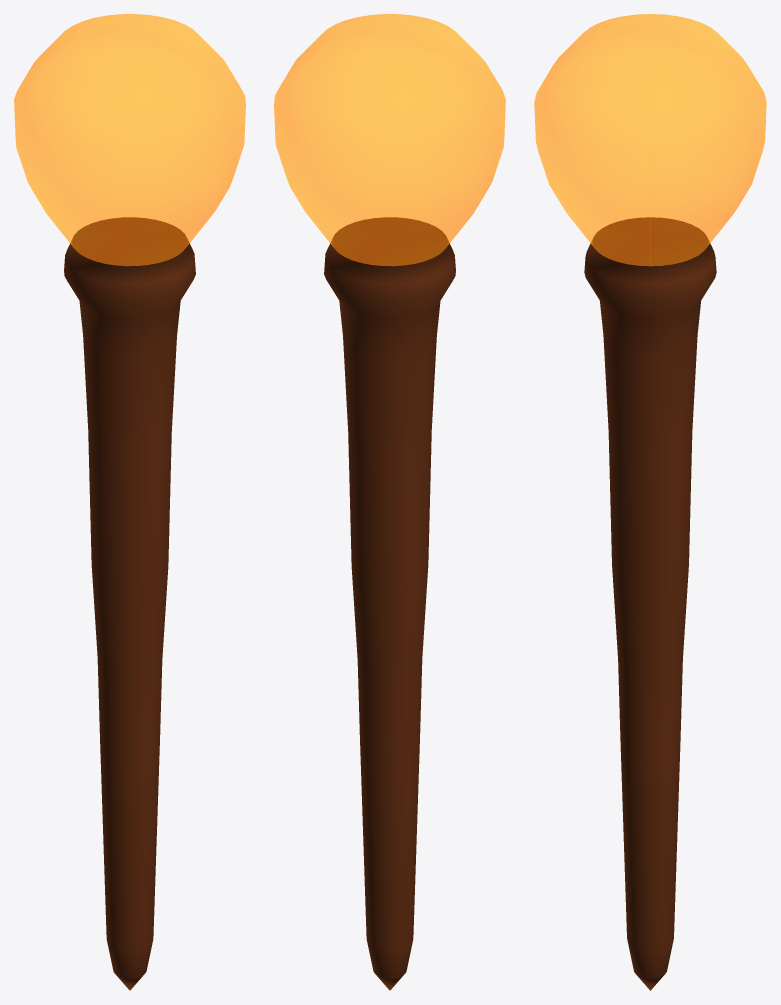
Rendered from torch.fbx.
3 views of the same model, side by side, from view 1: azimuth 30°, elevation 25°; view 2: azimuth 150°, elevation 25°; view 3: azimuth 270°, elevation 25° (orthographic).
Parts seen in each view (by area): view 1: Cylinder; view 2: Cylinder; view 3: Cylinder.
Part boxes in pixels (x1=…): Cylinder: x1=14, y1=14, x2=245, y2=990; Cylinder: x1=274, y1=14, x2=505, y2=990; Cylinder: x1=534, y1=14, x2=766, y2=990.
Bounding box in the file's own units: 14.55 × 66.12 × 14.55.
